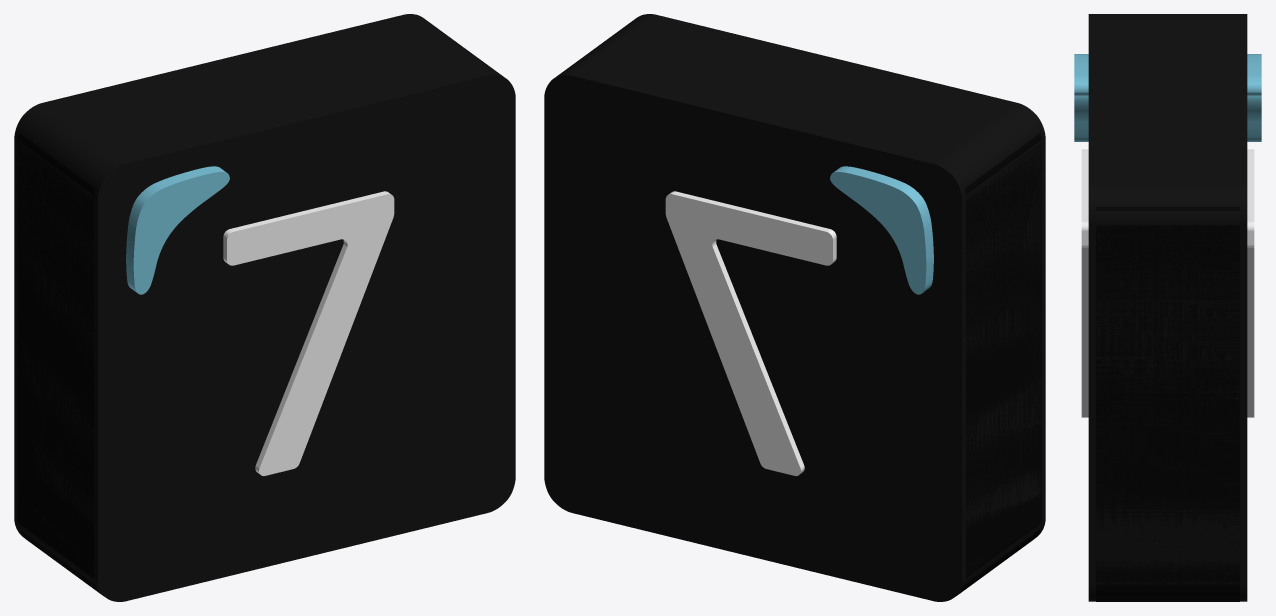
3 renders of one model, left to right at view 1: azimuth 30°, elevation 25°; view 2: azimuth 150°, elevation 25°; view 3: azimuth 270°, elevation 25°, orthographic. The views are drawn at different scales.
Visible parts, largest first — view 1: U+FE834_layer01_obj00, U+FE834_layer00_obj00, U+FE834_layer02_obj00, U+FE834_layer03_obj00; view 2: U+FE834_layer01_obj00, U+FE834_layer00_obj00, U+FE834_layer02_obj00, U+FE834_layer03_obj00; view 3: U+FE834_layer01_obj00, U+FE834_layer00_obj00, U+FE834_layer02_obj00, U+FE834_layer03_obj00.
Boxes of the visible parts, left/top/right/bottom form: U+FE834_layer01_obj00: left=14, top=14, right=515, bottom=601; U+FE834_layer00_obj00: left=18, top=133, right=101, bottom=594; U+FE834_layer02_obj00: left=223, top=191, right=394, bottom=475; U+FE834_layer03_obj00: left=126, top=166, right=229, bottom=294; U+FE834_layer01_obj00: left=544, top=14, right=1045, bottom=601; U+FE834_layer00_obj00: left=958, top=133, right=1041, bottom=594; U+FE834_layer02_obj00: left=665, top=191, right=836, bottom=475; U+FE834_layer03_obj00: left=830, top=166, right=933, bottom=294; U+FE834_layer01_obj00: left=1088, top=14, right=1247, bottom=601; U+FE834_layer00_obj00: left=1096, top=207, right=1239, bottom=601; U+FE834_layer02_obj00: left=1081, top=149, right=1254, bottom=417; U+FE834_layer03_obj00: left=1074, top=54, right=1261, bottom=141.
Bounding box in the file's own units: 0.3175 × 0.3177 × 0.13.
